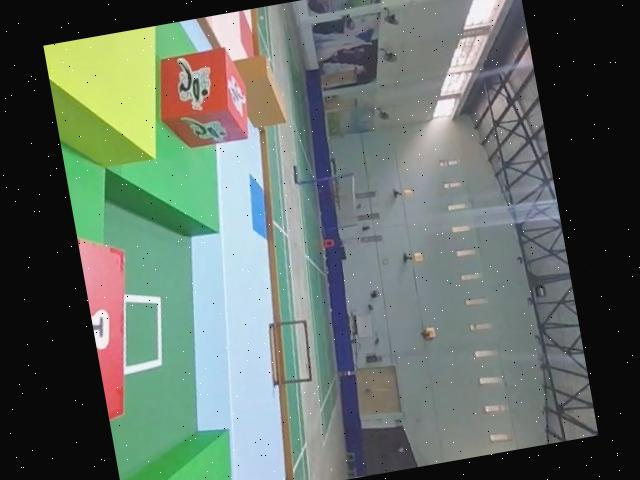R1: (145, 40, 259, 157)
